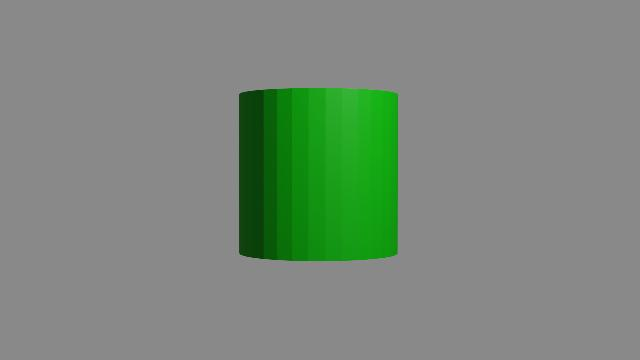Cylinder: (224, 82, 414, 276)
